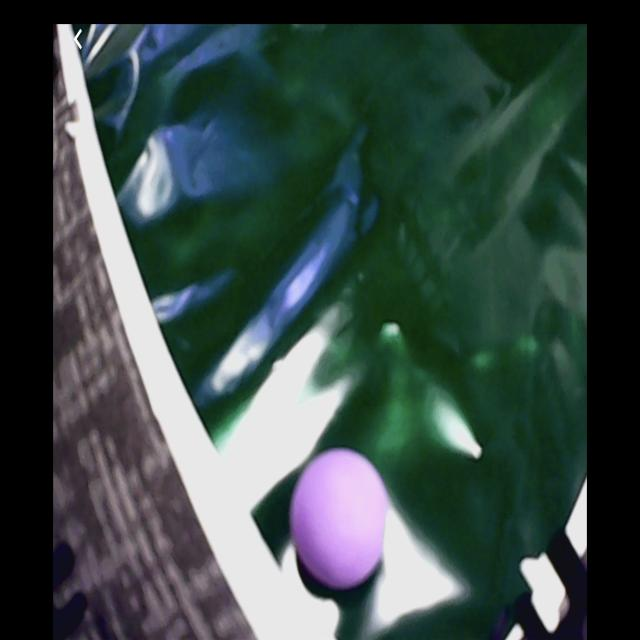ball: (292, 448, 388, 585)
